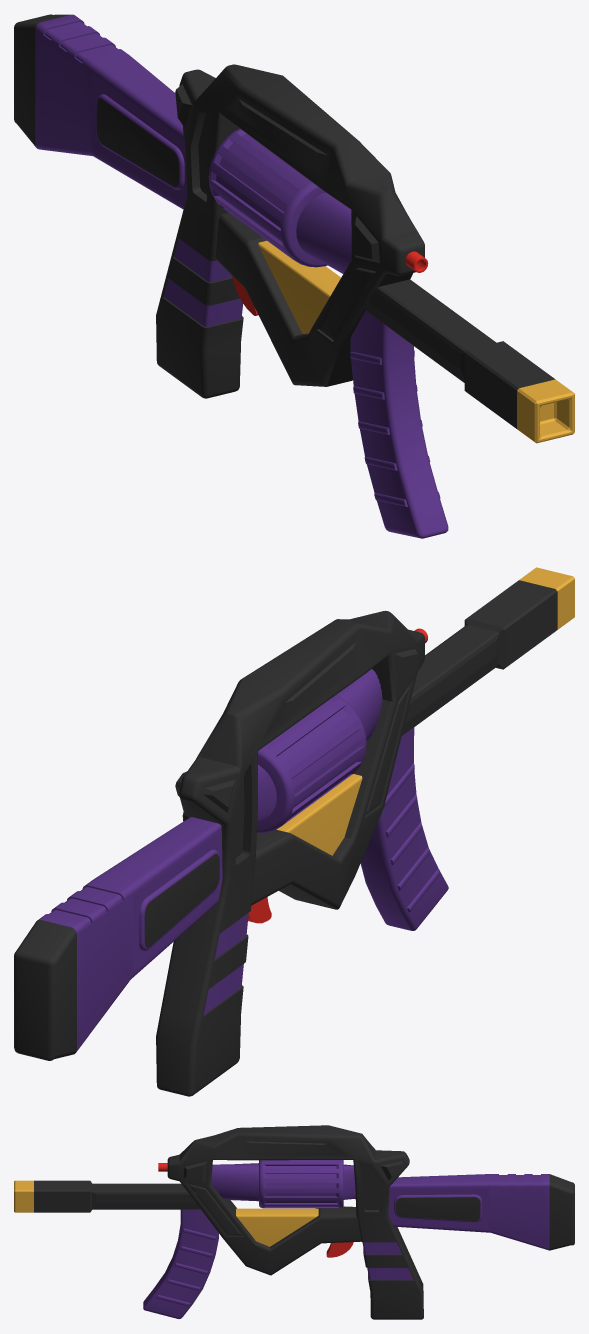
The model's file is ates_silahi.fbx.
The picture shows the model from 3 angles, top to bottom: view 1: azimuth 30°, elevation 25°; view 2: azimuth 150°, elevation 25°; view 3: azimuth 270°, elevation 25°; orthographic projection. The views are drawn at different scales.
Visible parts, largest first — view 1: atessilah; view 2: atessilah; view 3: atessilah.
Part boxes in pixels (x1=…): atessilah: x1=14, y1=14, x2=574, y2=538; atessilah: x1=14, y1=567, x2=574, y2=1096; atessilah: x1=14, y1=1125, x2=574, y2=1319.
Size of the model in its own units: 31.49 by 124 by 338.
